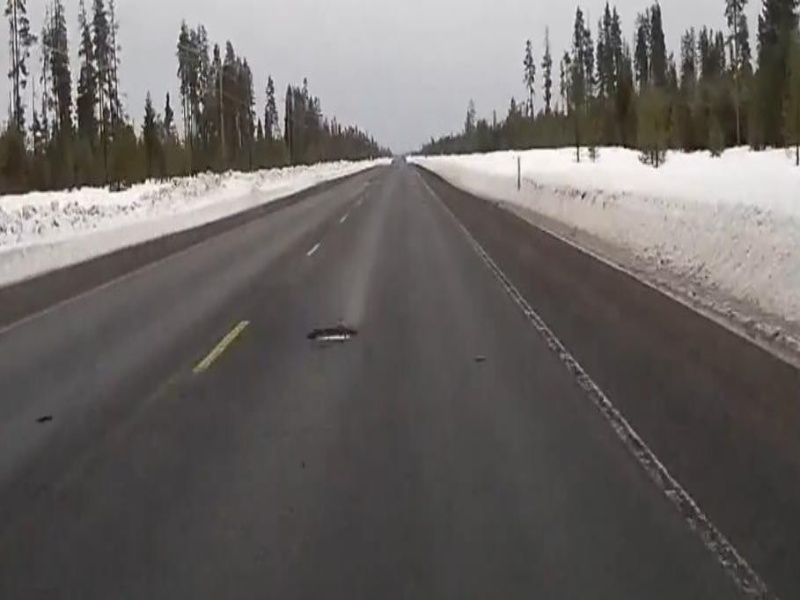pothole: (305, 324, 361, 343)
